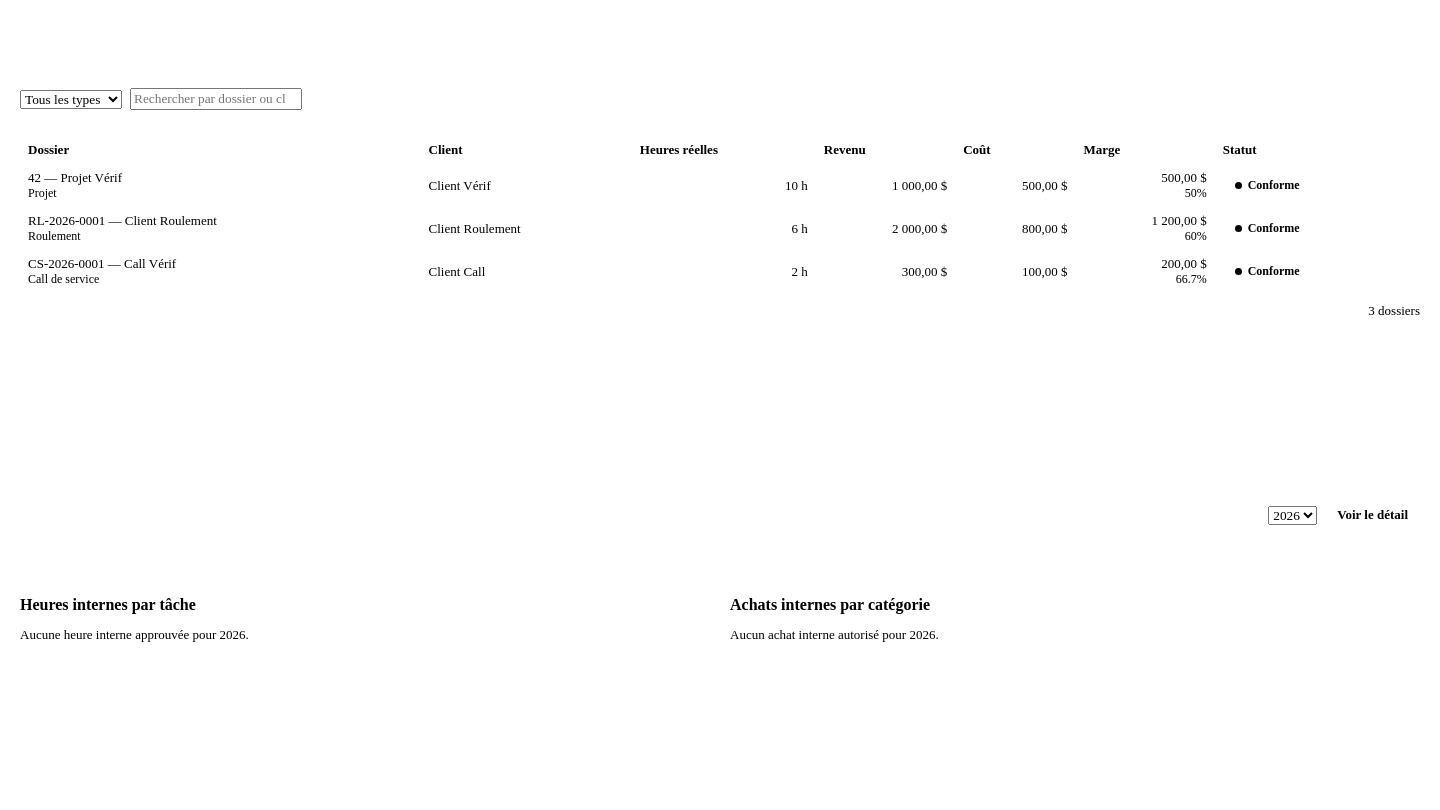
Test: ReportsPage — comparatif de rentabilité, lignes cliquables › clic sur une ligne Projet ouvre son Post-mortem
The width and height of the screenshot is (1440, 810).
Click the text "Client Vérif" at (44, 178), box [20,164,1420,207]
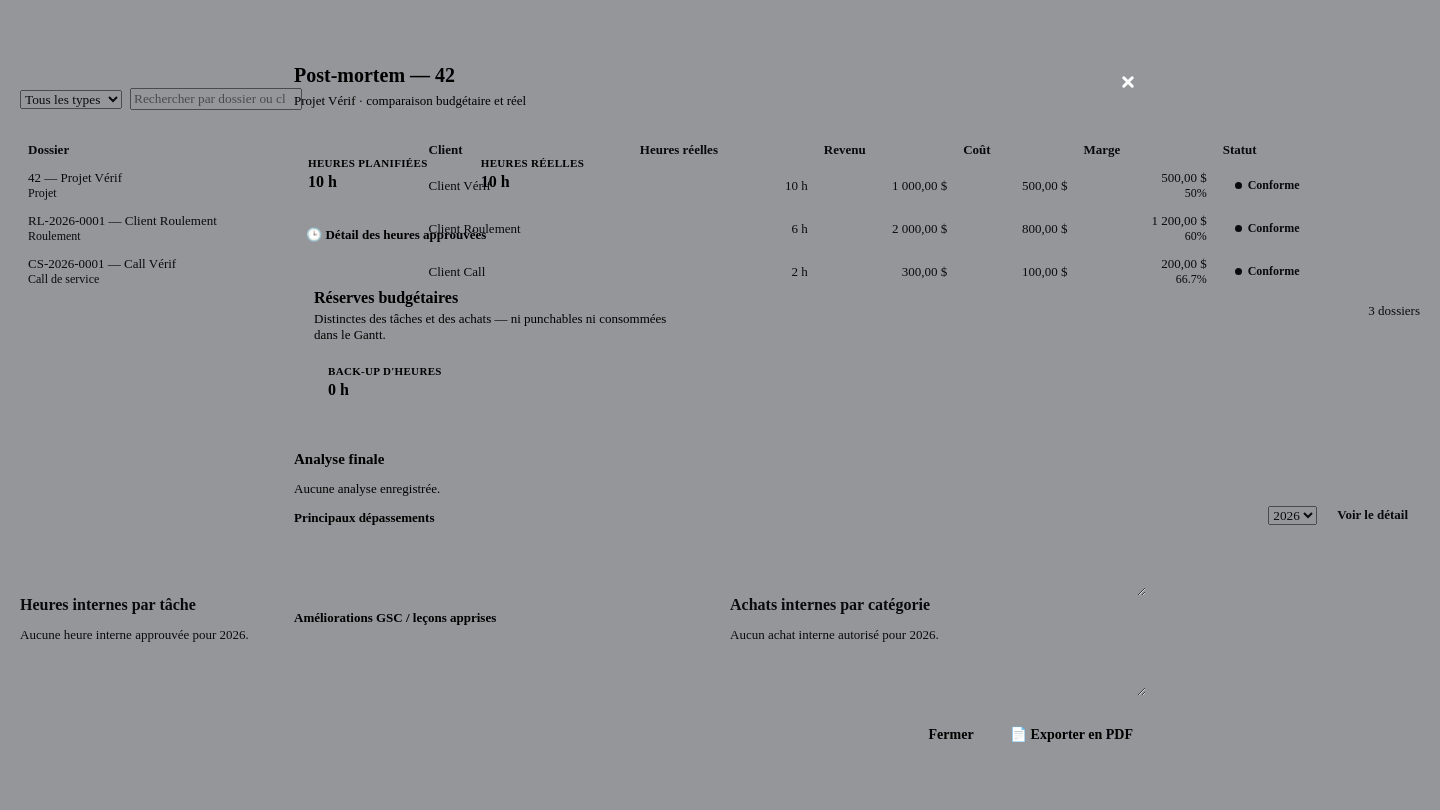
Result: the heading "Post-mortem — 42" is shown at [294,64,455,86]
